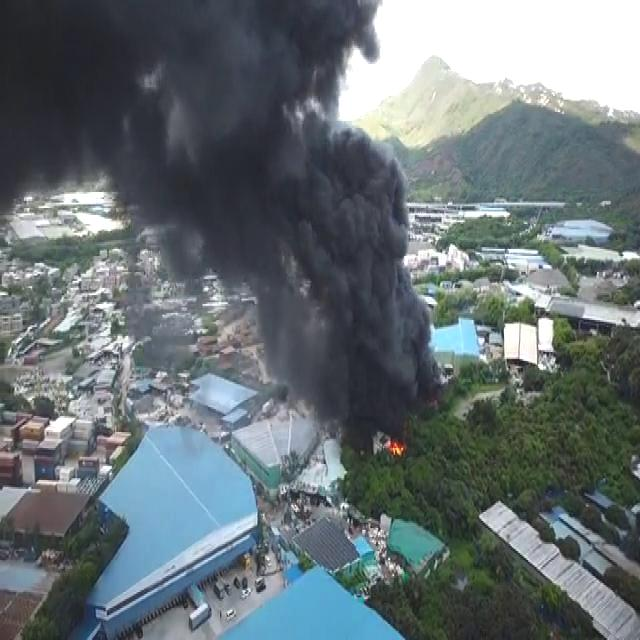smoke: (3, 0, 126, 176), (131, 1, 262, 165), (268, 126, 406, 266), (128, 166, 260, 256), (266, 273, 372, 379), (358, 272, 428, 394), (268, 1, 338, 122), (409, 224, 424, 428), (164, 229, 206, 293), (308, 378, 366, 424), (342, 0, 378, 57), (373, 394, 424, 428)
